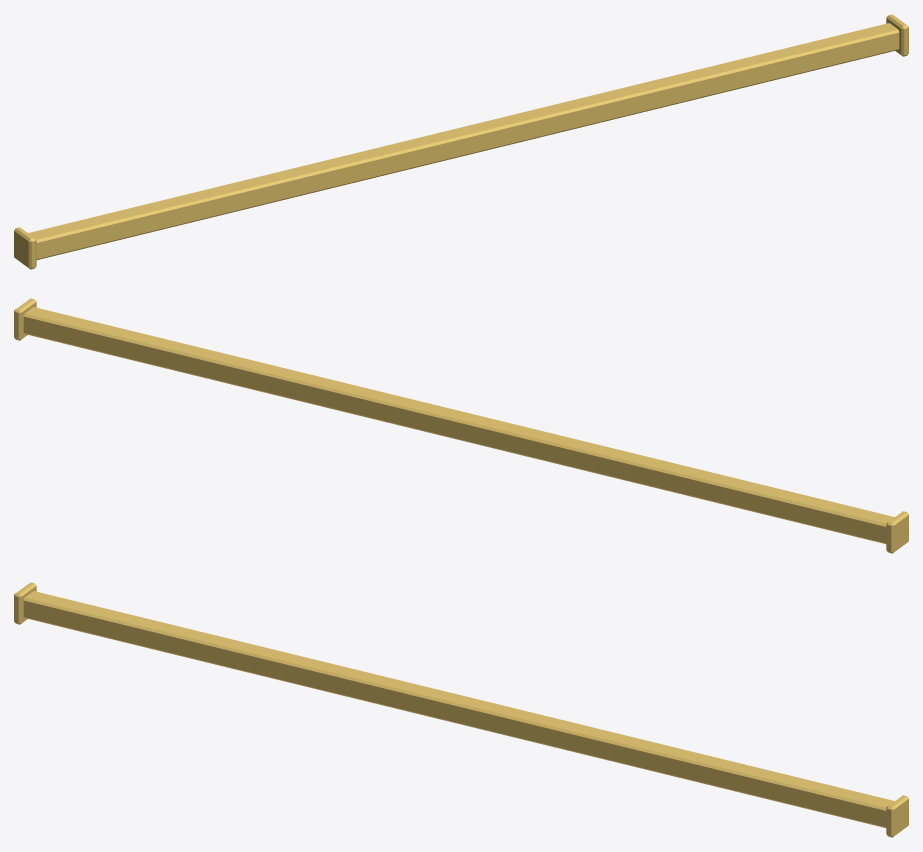
File: SM_Beam_13p5x0p3x0p3.glb
3 renders of one model, top to bottom at view 1: azimuth 30°, elevation 25°; view 2: azimuth 150°, elevation 25°; view 3: azimuth 330°, elevation 25°, orthographic.
Parts seen in each view (by area): view 1: SM_Beam_13p5x0p3x0p3; view 2: SM_Beam_13p5x0p3x0p3; view 3: SM_Beam_13p5x0p3x0p3.
Boxes of the visible parts, x1,y1,x2,y2 form: SM_Beam_13p5x0p3x0p3: (14, 14, 908, 269); SM_Beam_13p5x0p3x0p3: (14, 298, 908, 553); SM_Beam_13p5x0p3x0p3: (14, 582, 908, 837).
Bounding box in the file's own units: 13.5 × 0.45 × 0.45.
